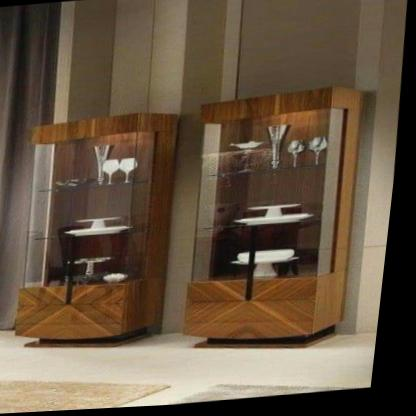Cupboard: (192, 90, 370, 353), (23, 114, 182, 347)
